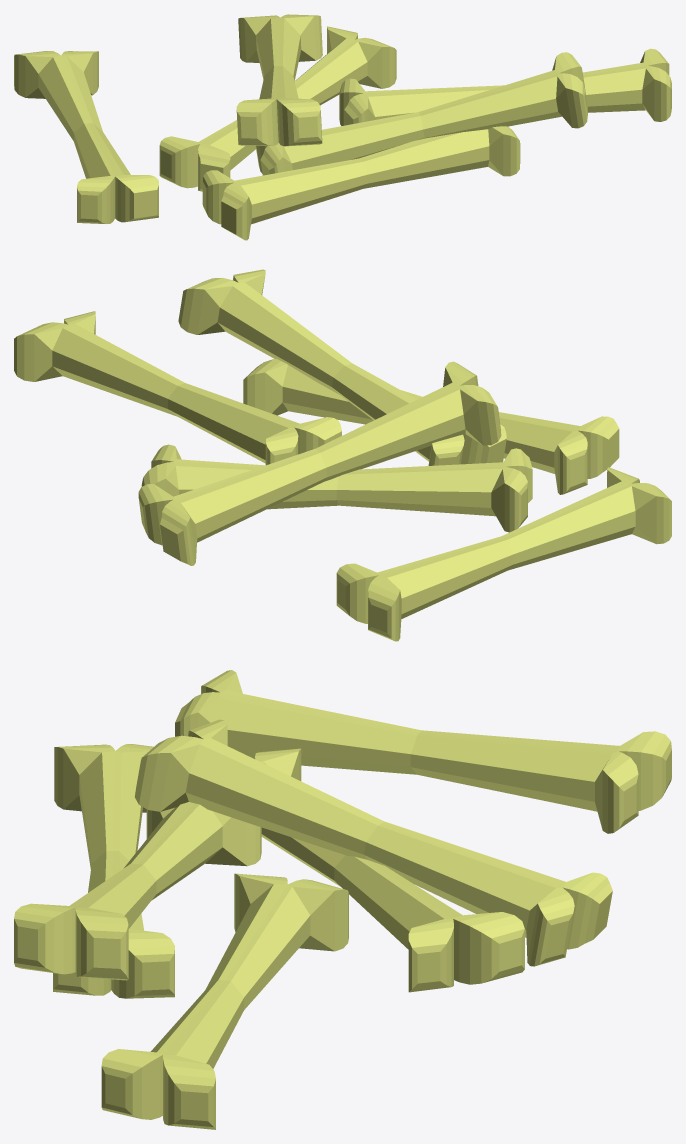
File: Bones1.fbx
The picture shows the model from 3 angles, top to bottom: view 1: azimuth 30°, elevation 25°; view 2: azimuth 150°, elevation 25°; view 3: azimuth 270°, elevation 25°; orthographic projection. The views are drawn at different scales.
Visible parts, largest first — view 1: Cube.097; view 2: Cube.097; view 3: Cube.097.
Boxes of the visible parts, x1,y1,x2,y2 form: Cube.097: [14, 14, 671, 240]; Cube.097: [14, 269, 671, 641]; Cube.097: [14, 670, 671, 1129].
Bounding box in the file's own units: 326 × 47.41 × 221.
